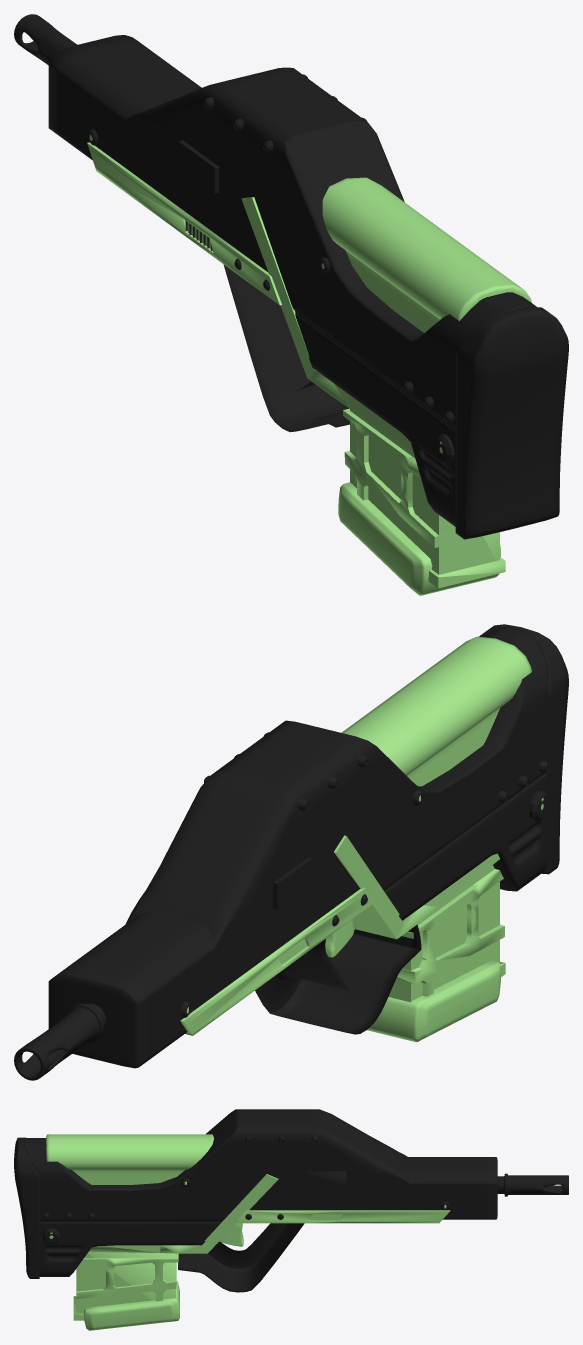
Rendered from Rifle.fbx.
The picture shows the model from 3 angles, top to bottom: view 1: azimuth 30°, elevation 25°; view 2: azimuth 150°, elevation 25°; view 3: azimuth 270°, elevation 25°; orthographic projection. The views are drawn at different scales.
Visible parts, largest first — view 1: Cube, Cube_1, Cube_2; view 2: Cube, Cube_1, Cube_2; view 3: Cube, Cube_1, Cube_2.
Part boxes in pixels (left/top/right/bottom): Cube: left=14, top=14, right=568, bottom=539; Cube_1: left=322, top=177, right=531, bottom=595; Cube_2: left=87, top=135, right=442, bottom=453; Cube: left=14, top=624, right=568, bottom=1080; Cube_1: left=325, top=636, right=531, bottom=1041; Cube_2: left=180, top=795, right=543, bottom=1035; Cube: left=14, top=1109, right=568, bottom=1292; Cube_1: left=46, top=1134, right=243, bottom=1330; Cube_2: left=49, top=1174, right=450, bottom=1253.
Size of the model in its own units: 7.48 by 25.29 by 63.11.
